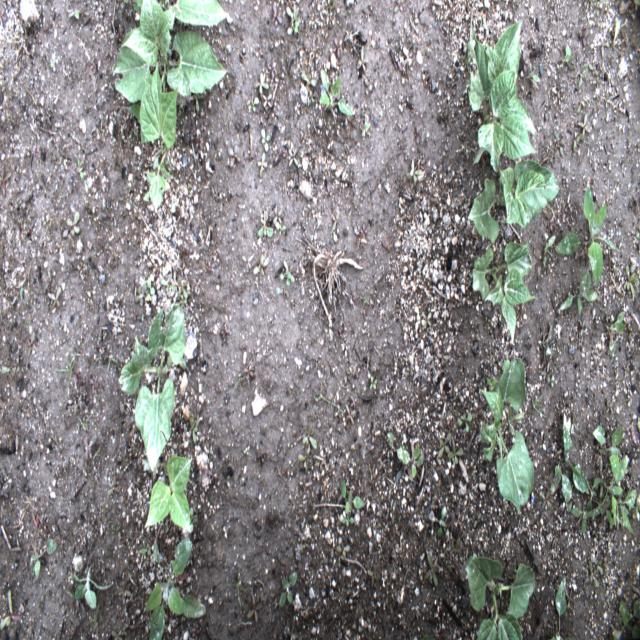crop: (112, 0, 233, 212), (116, 304, 187, 470), (468, 17, 540, 170), (477, 354, 539, 516), (466, 161, 563, 243), (470, 240, 538, 345), (142, 540, 211, 638), (465, 552, 538, 638), (144, 452, 202, 529)
weed: (555, 168, 616, 332), (551, 406, 593, 537), (593, 414, 638, 534), (316, 66, 357, 116), (72, 564, 110, 616), (30, 526, 64, 584), (393, 436, 427, 488), (338, 476, 368, 526), (273, 564, 302, 614), (295, 417, 320, 475), (0, 580, 27, 632), (552, 576, 574, 638), (248, 66, 274, 118), (601, 312, 628, 361), (434, 432, 468, 468), (404, 145, 430, 192), (610, 592, 638, 634), (518, 55, 542, 102), (569, 106, 592, 154), (256, 118, 275, 176), (161, 268, 192, 303), (553, 38, 578, 80), (536, 324, 554, 382), (422, 544, 442, 596), (56, 347, 80, 389), (330, 532, 357, 568), (278, 7, 304, 43), (64, 209, 88, 245), (253, 206, 274, 247), (134, 264, 156, 303), (78, 406, 102, 441), (278, 254, 298, 295), (434, 499, 451, 545), (621, 261, 638, 306), (138, 540, 164, 568), (568, 56, 586, 94), (542, 231, 559, 270), (43, 281, 63, 314), (454, 405, 476, 434), (245, 585, 262, 622), (224, 143, 245, 172), (590, 46, 609, 78), (9, 278, 29, 307), (416, 306, 439, 330), (73, 156, 90, 186), (24, 324, 38, 358), (187, 414, 202, 444), (1, 166, 13, 202), (368, 367, 380, 398), (66, 4, 85, 23), (1, 362, 22, 378)
